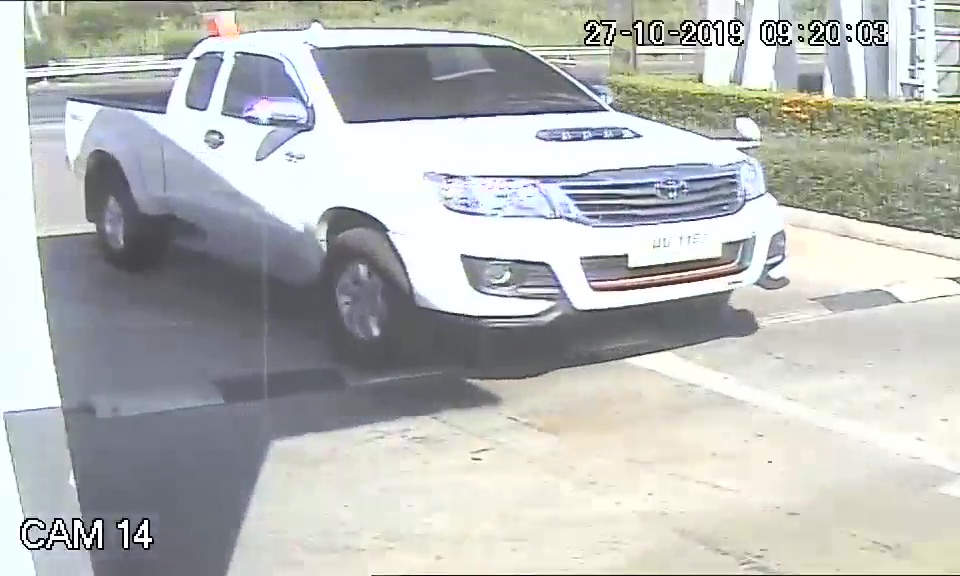pickup: (62, 22, 794, 373)
